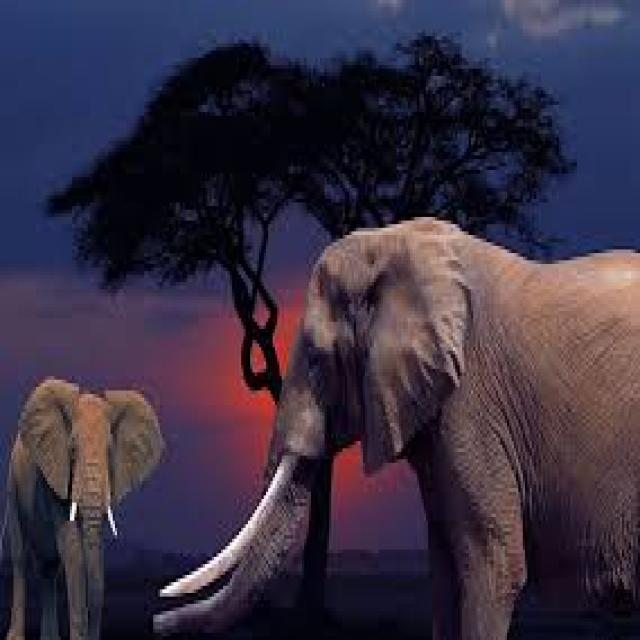Elephant: (151, 214, 638, 636), (0, 372, 167, 636)
